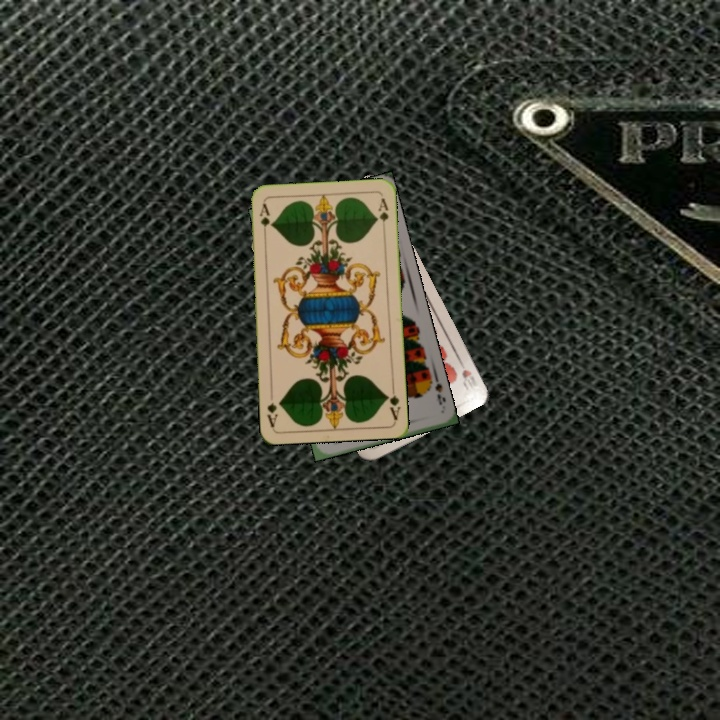GA: (382, 381, 403, 422), (256, 199, 272, 240)
H10: (454, 355, 483, 393)
S9: (422, 370, 448, 408)
